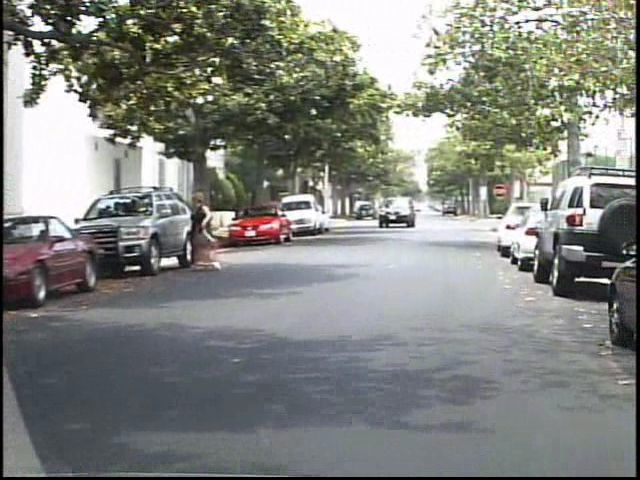person: (195, 189, 229, 277)
